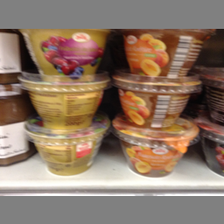jam: (19, 71, 111, 132), (112, 70, 205, 129), (15, 29, 114, 81), (116, 29, 216, 80), (112, 121, 201, 178), (25, 120, 111, 175)
